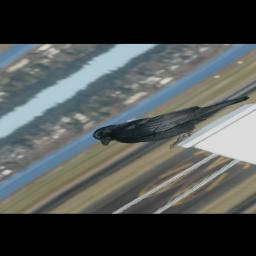Crow: (80, 77, 255, 160)
